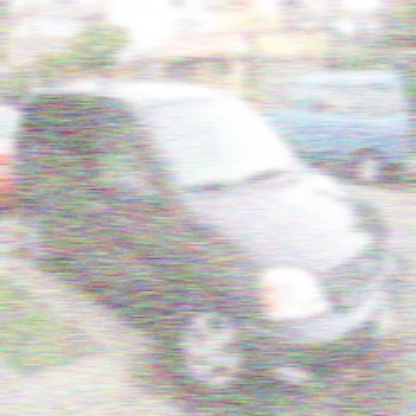Vehicle: (13, 78, 407, 404)
